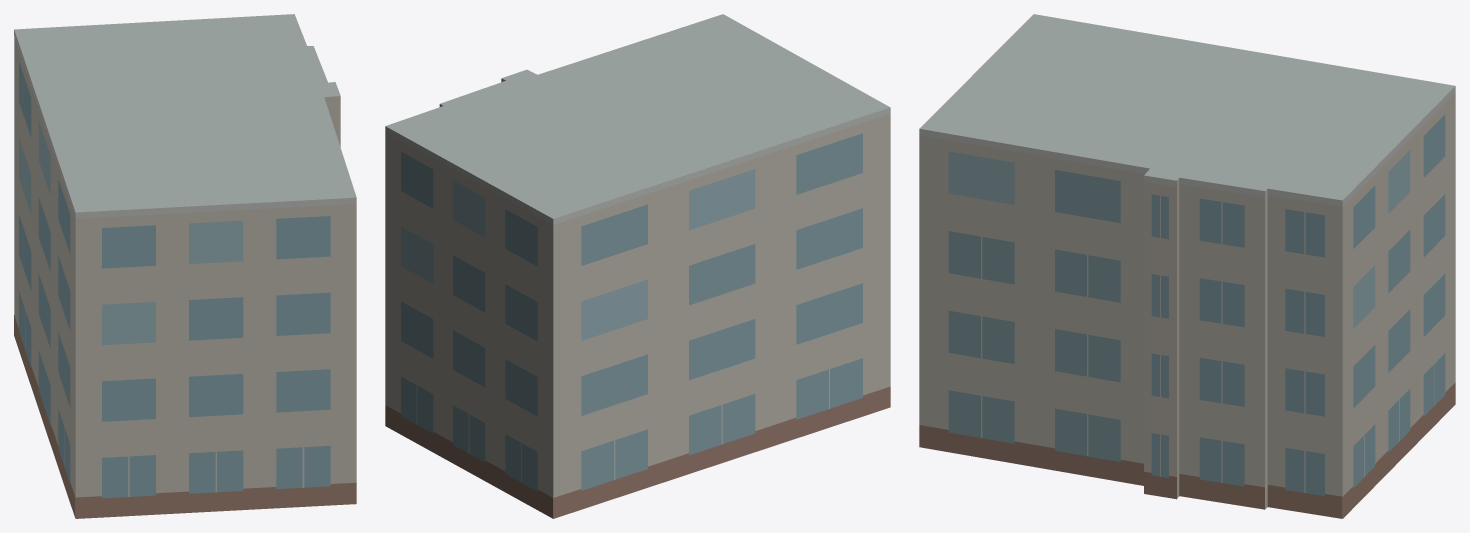
File: survey-upis-32699197.glb
3 renders of one model, left to right at view 1: azimuth 30°, elevation 25°; view 2: azimuth 150°, elevation 25°; view 3: azimuth 270°, elevation 25°, orthographic. The views are drawn at different scales.
Parts seen in each view (by area): view 1: survey-upis-32699197.tmp; view 2: survey-upis-32699197.tmp; view 3: survey-upis-32699197.tmp.
Boxes of the visible parts, x1,y1,x2,y2 form: survey-upis-32699197.tmp: (14, 14, 356, 518); survey-upis-32699197.tmp: (385, 14, 890, 518); survey-upis-32699197.tmp: (919, 14, 1455, 518).
Size of the model in its own units: 15.33 by 12.2 by 18.63.
